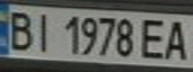1: (57, 12, 81, 55)
7: (97, 15, 118, 56)
8: (115, 15, 139, 58)
9: (78, 12, 100, 56)
A: (160, 16, 193, 62)
B: (3, 7, 36, 52)
E: (136, 16, 172, 61)
I: (30, 10, 57, 53)
